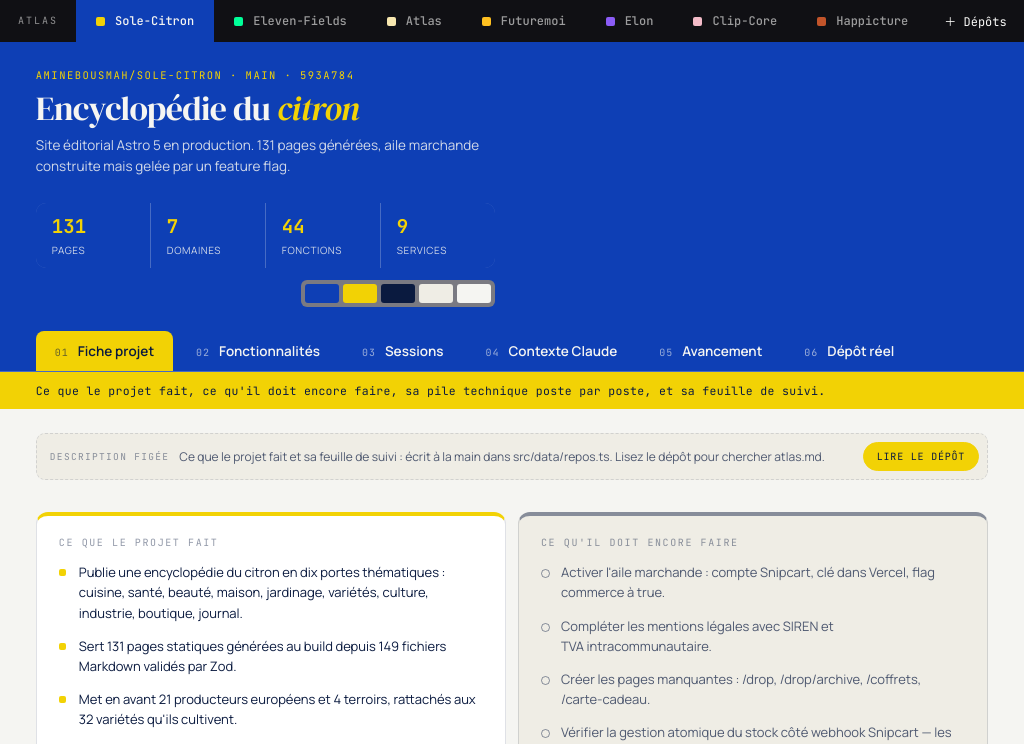
Scenario: navigation › change de dépôt, et la palette suit
The image size is (1024, 744).
What coordinates should you click on to do the following:
click the button "Eleven-Fields"
I would click on:
 (290, 21)
Its box is [214, 0, 367, 42].
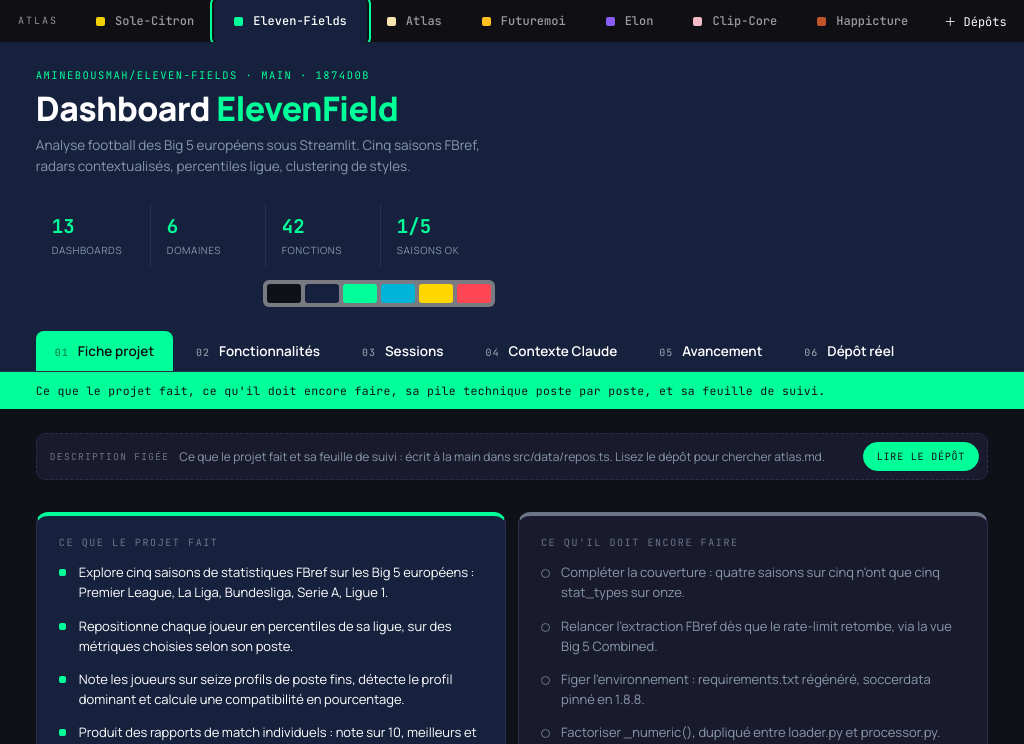
Expected: the heading shows "Dashboard", [36, 85, 216, 131]
